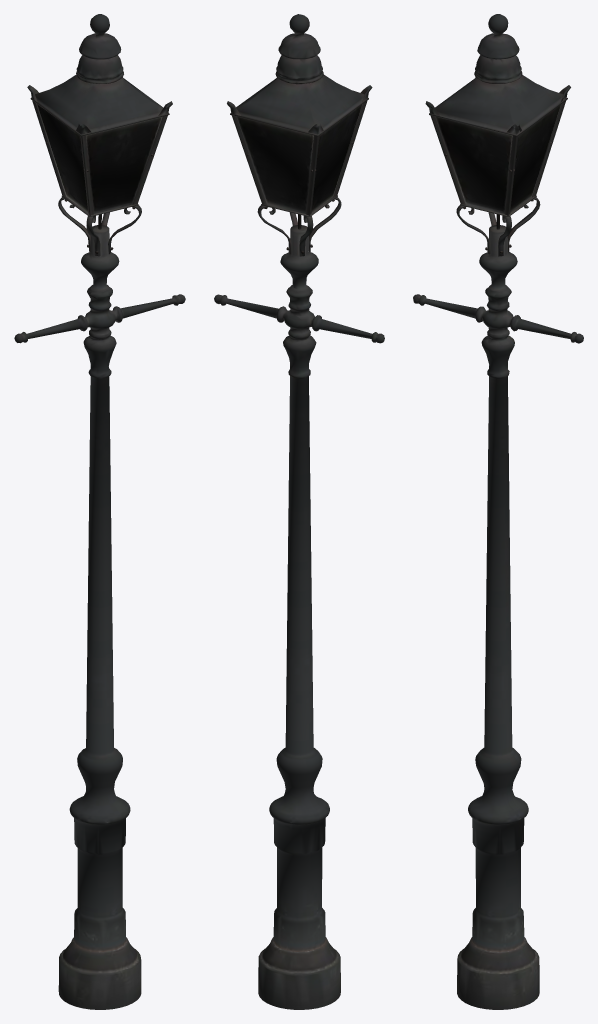
The model's file is street_lamp_01.glb.
3 views of the same model, side by side, from view 1: azimuth 30°, elevation 25°; view 2: azimuth 150°, elevation 25°; view 3: azimuth 330°, elevation 25° (orthographic).
Visible parts, largest first — view 1: street_lamp_01; view 2: street_lamp_01; view 3: street_lamp_01.
Boxes of the visible parts, bbox=[...] form: street_lamp_01: bbox=[14, 14, 185, 1009]; street_lamp_01: bbox=[214, 14, 384, 1009]; street_lamp_01: bbox=[413, 14, 583, 1009].
Size of the model in its own units: 0.7033 by 3.87 by 0.3858.
2 materials, 2 textured.
